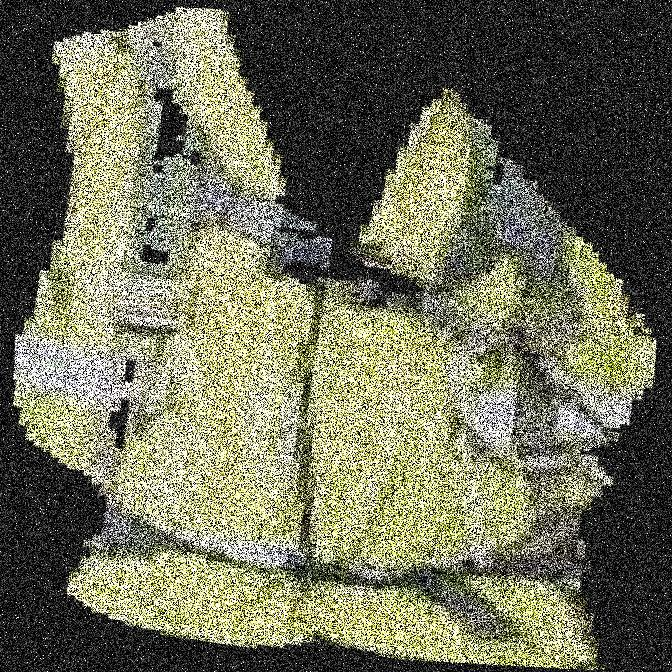Colete: (87, 0, 247, 671)
